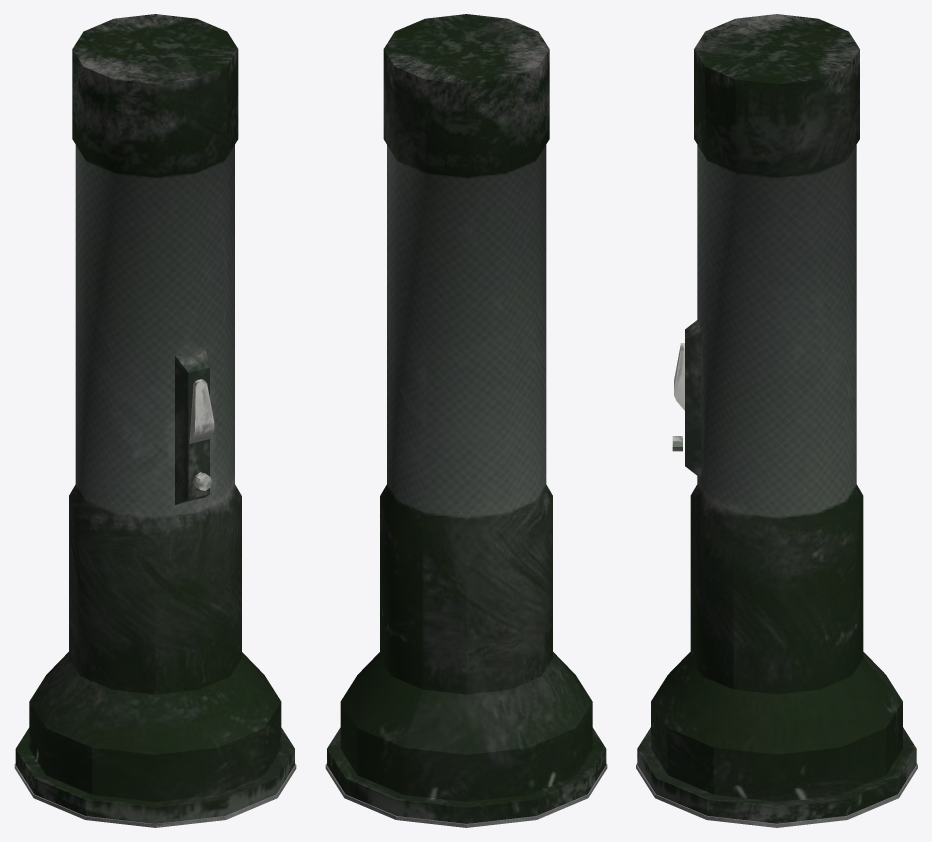
The model's file is flashlight.fbx.
The picture shows the model from 3 angles, left to right: view 1: azimuth 30°, elevation 25°; view 2: azimuth 150°, elevation 25°; view 3: azimuth 270°, elevation 25°; orthographic projection.
Visible parts, largest first — view 1: flashlight; view 2: flashlight; view 3: flashlight.
Part boxes in pixels (left/top/right/bottom): flashlight: left=14, top=14, right=296, bottom=827; flashlight: left=325, top=14, right=607, bottom=827; flashlight: left=636, top=14, right=917, bottom=827.
Bounding box in the file's own units: 0.0711 × 0.071 × 0.2.
1 material, 1 textured.
